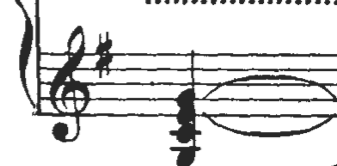sharp: (93, 30, 117, 78)
treble_clef: (43, 25, 94, 147)
